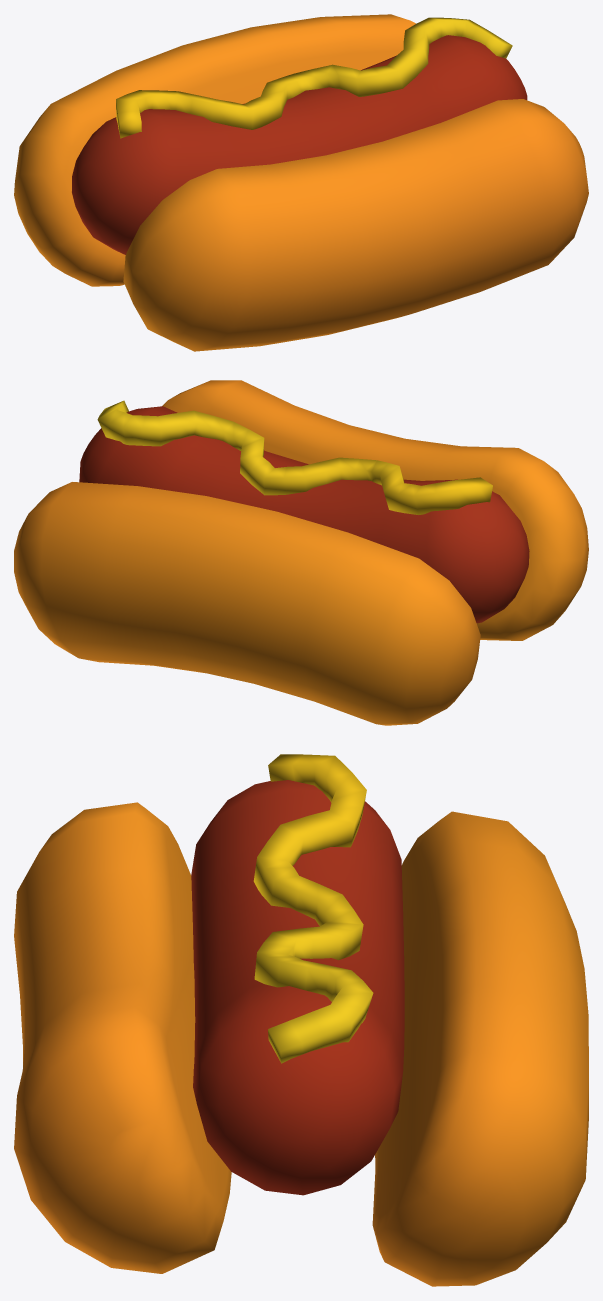
The model's file is Hotdogwithmustard.fbx.
The picture shows the model from 3 angles, top to bottom: view 1: azimuth 30°, elevation 25°; view 2: azimuth 150°, elevation 25°; view 3: azimuth 270°, elevation 25°; orthographic projection. The views are drawn at different scales.
Parts seen in each view (by area): view 1: hotdog; view 2: hotdog; view 3: hotdog.
Part boxes in pixels (x1,y1,x2,y2): hotdog: (14,14,588,351); hotdog: (14,380,588,725); hotdog: (14,754,588,1286).
Size of the model in its own units: 0.3454 by 0.1606 by 0.2714.
